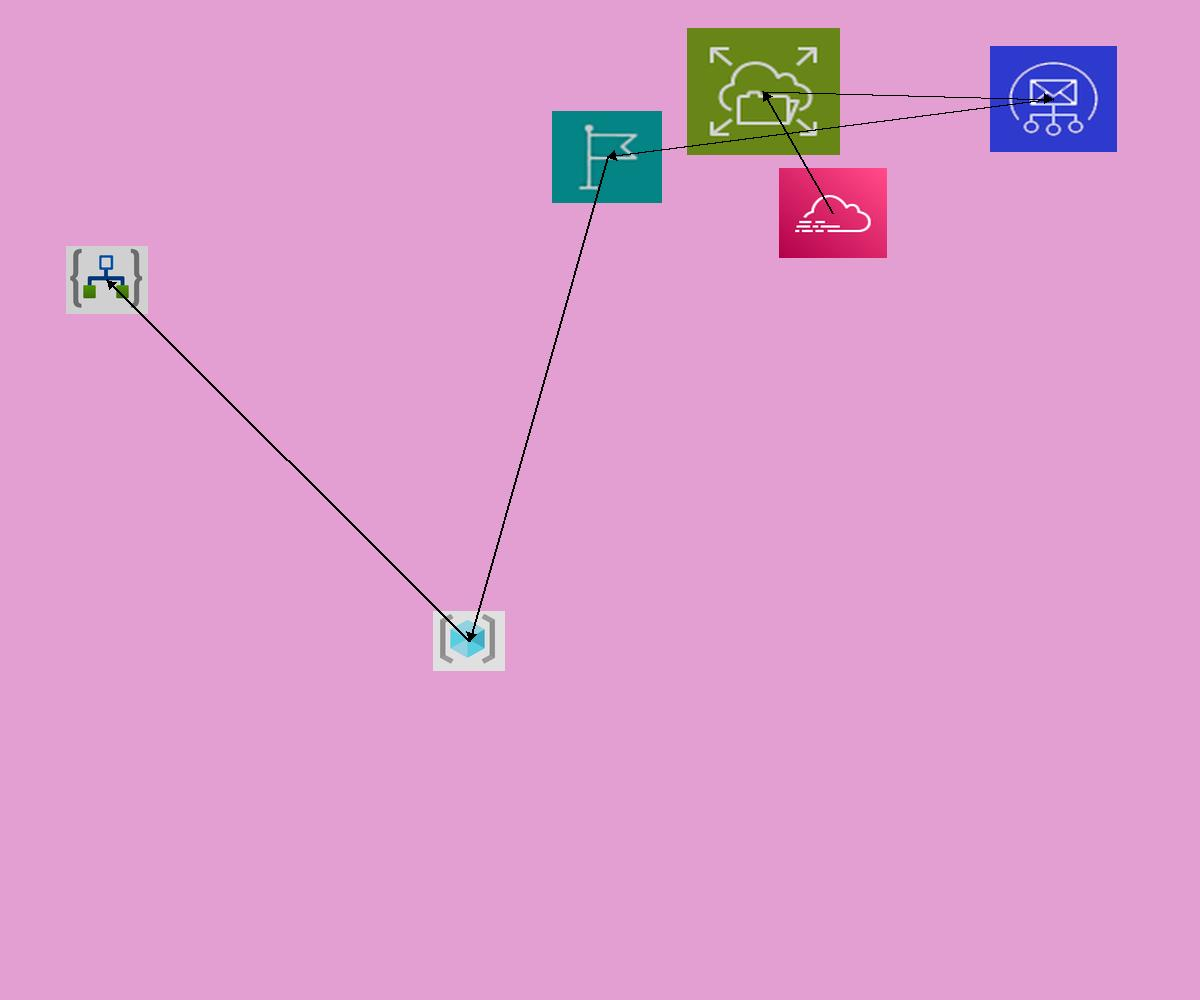AWS-CloudTrail: (779, 168, 887, 258)
AWS-EFS: (687, 28, 840, 155)
AWS-Region: (552, 111, 662, 203)
AWS-Simple-Email-Service: (990, 46, 1117, 152)
Azure_integration-204-Logic-Apps: (66, 246, 148, 314)
Azure_resource_group: (433, 611, 505, 671)
